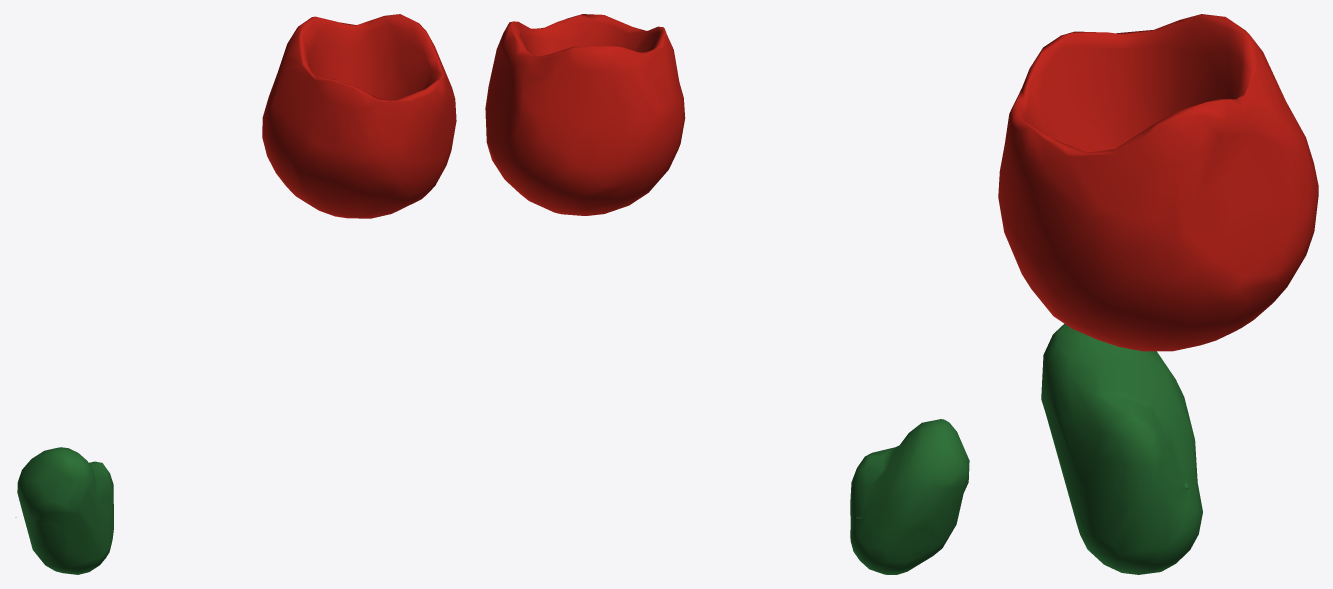
Rendered from ss_petals1.gltf.
The picture shows the model from 3 angles, left to right: view 1: azimuth 30°, elevation 25°; view 2: azimuth 150°, elevation 25°; view 3: azimuth 270°, elevation 25°; orthographic projection. The views are drawn at different scales.
Parts seen in each view (by area): view 1: Layer_1.002; view 2: Layer_1.002; view 3: Layer_1.002.
Boxes of the visible parts, <box> form: Layer_1.002: <box>15,14,456,574</box>; Layer_1.002: <box>485,14,969,574</box>; Layer_1.002: <box>998,14,1318,574</box>.
Size of the model in its own units: 0.9317 by 0.9461 by 0.3643.
